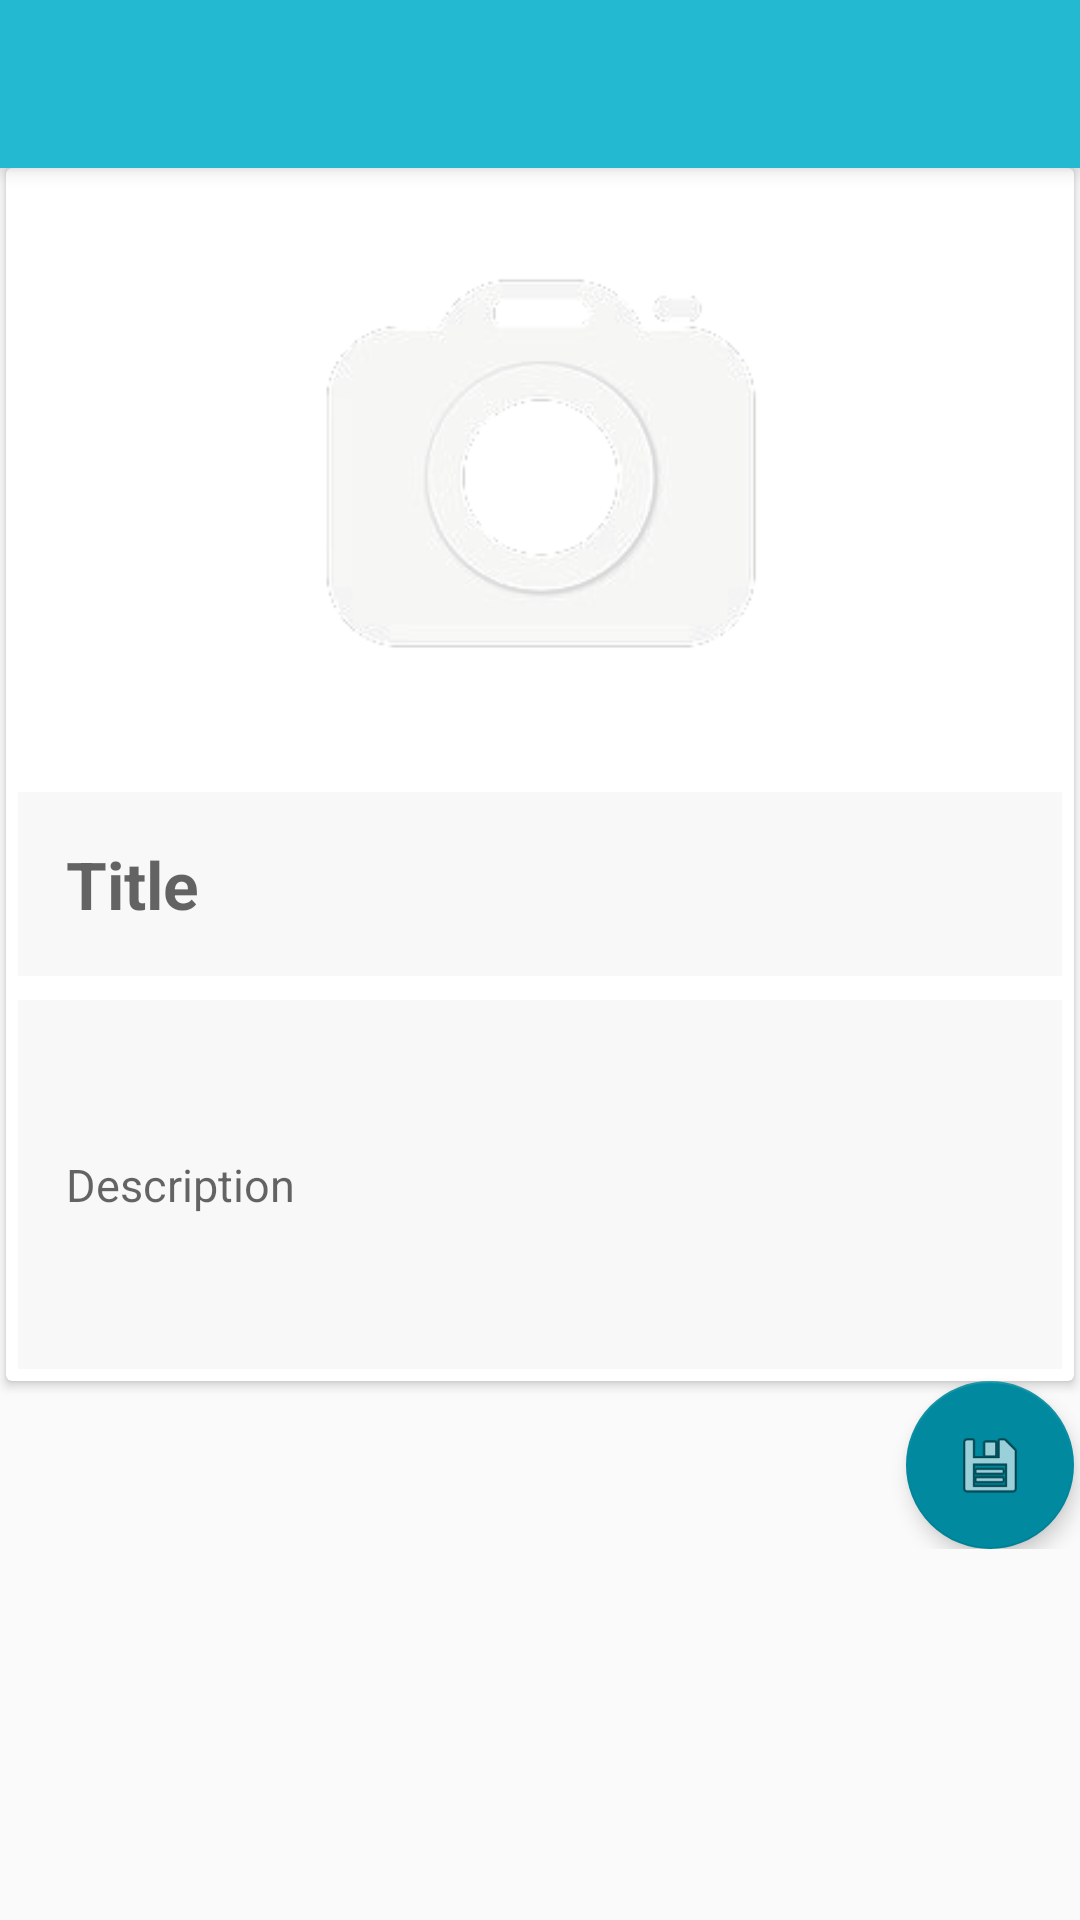

Point at icon controls on the screen. Image size 1080px x 1920px, points as point (x, y).
save: point (990, 1465)
